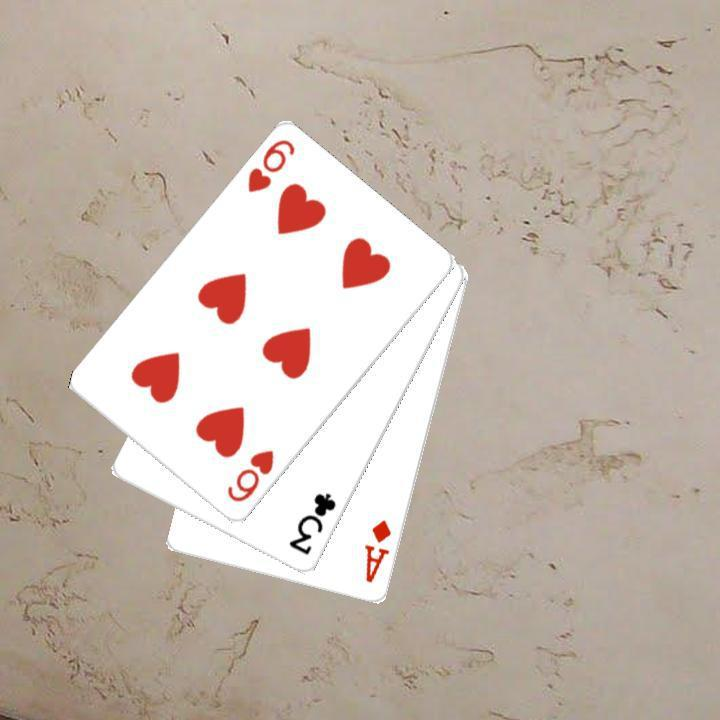3: (284, 489, 339, 558)
6: (243, 135, 298, 196), (222, 446, 276, 505)
A: (360, 516, 394, 585)
